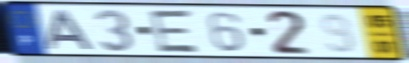2: (264, 9, 312, 56)
3: (92, 7, 135, 54)
6: (205, 10, 248, 54)
9: (319, 11, 358, 55)
A: (46, 9, 97, 51)
E: (147, 8, 203, 55)
